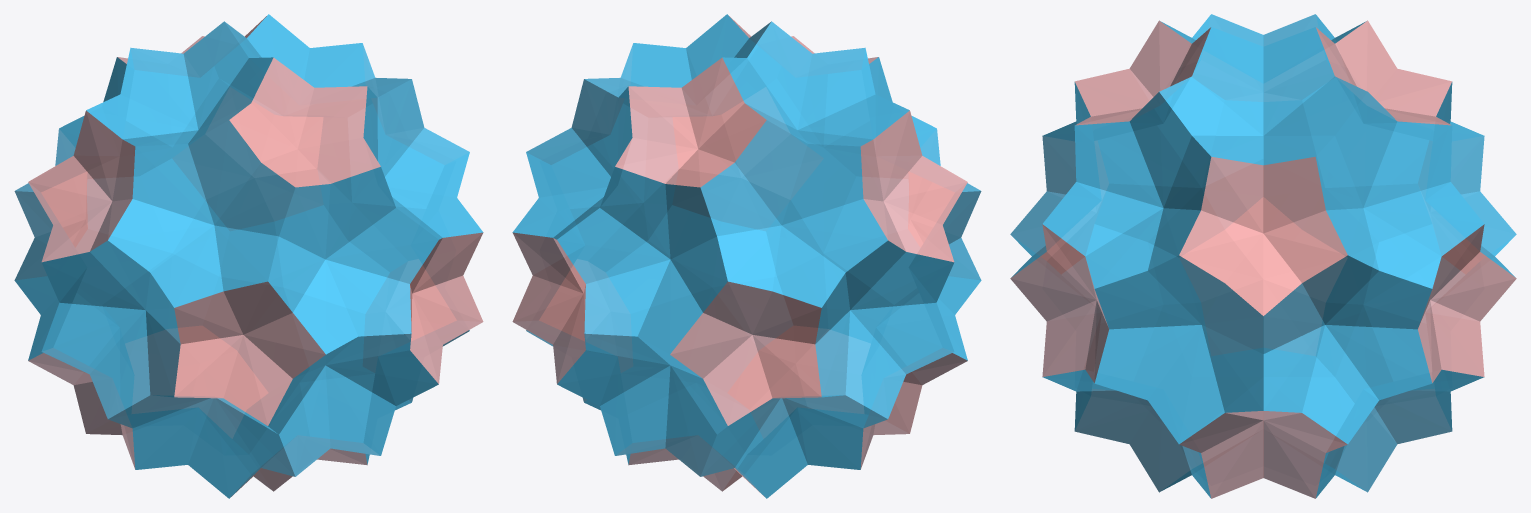
The model's file is Truncated_Icosahedron.obj.
3 renders of one model, left to right at view 1: azimuth 30°, elevation 25°; view 2: azimuth 150°, elevation 25°; view 3: azimuth 270°, elevation 25°, orthographic. The views are drawn at different scales.
Size of the model in its own units: 4.85 by 4.85 by 4.85.
